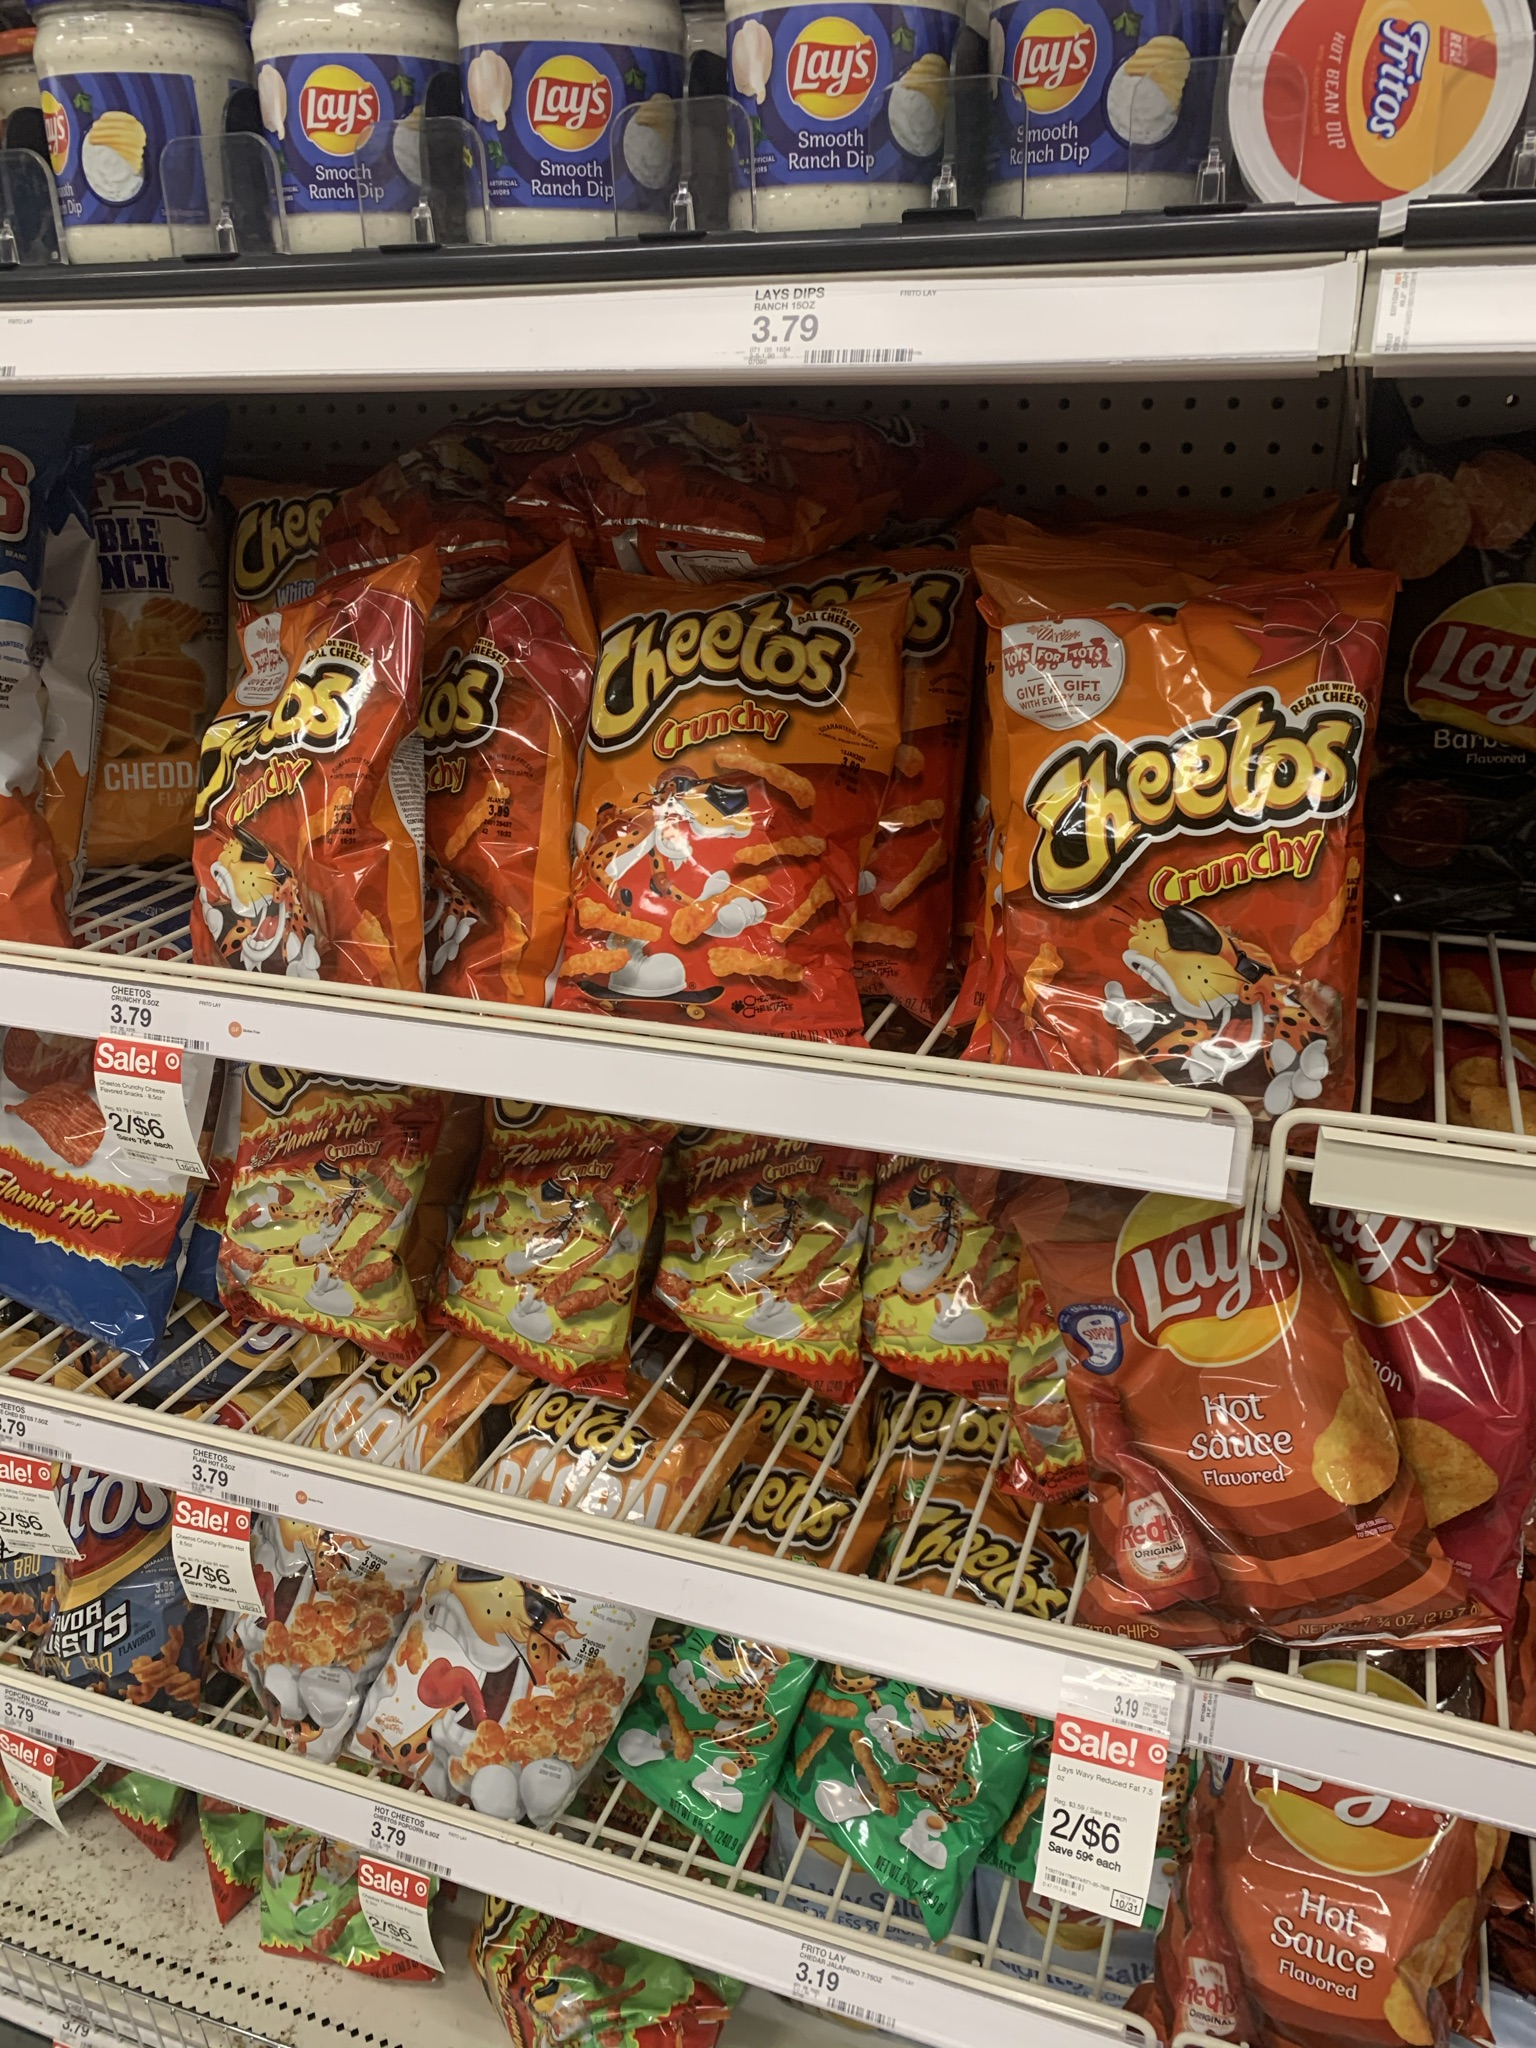Chips: (971, 543, 1363, 1089)
